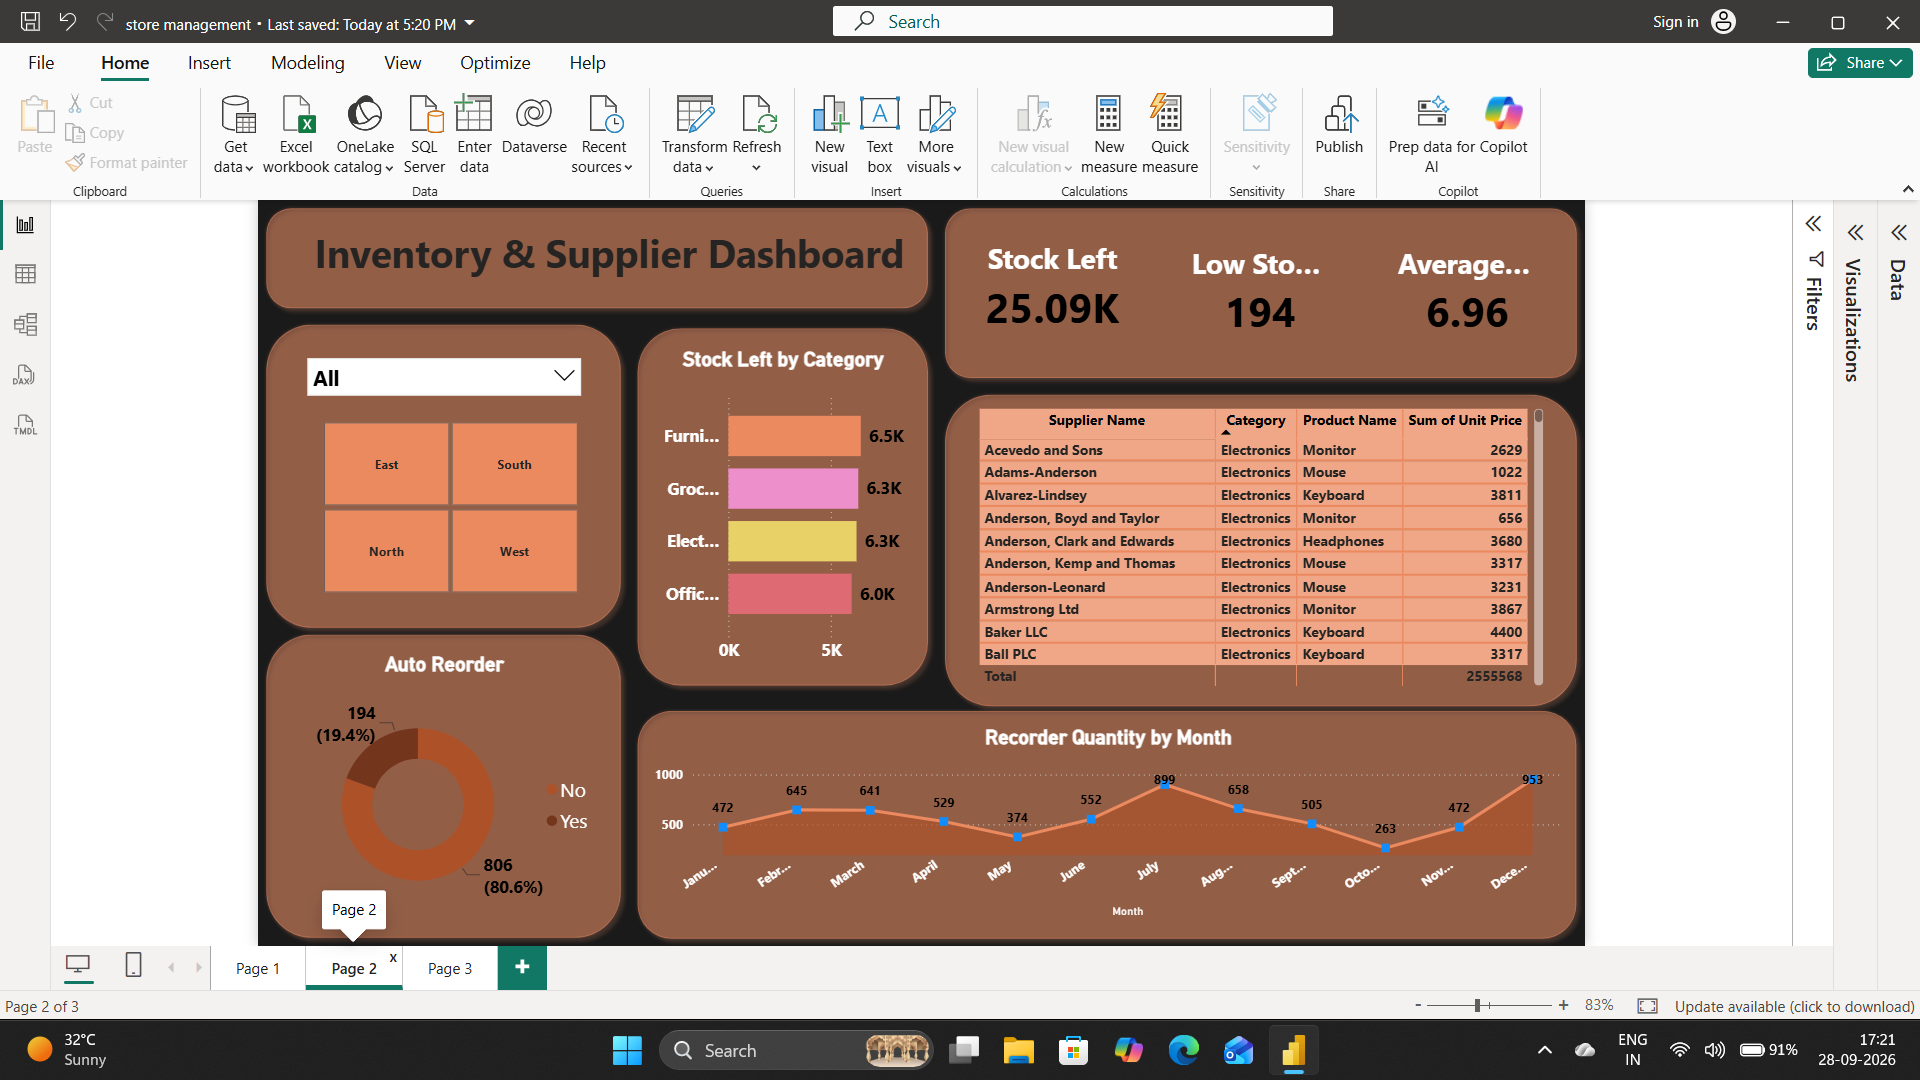

Layout of this report page (visuals, bound fields, positions):
{"tool":"powerbi","page":{"name":"Page 2","canvas":[1280,720],"ordinal":1},"visuals":[{"type":"shape","box":[0,0,654.5,112.5],"z":0},{"type":"shape","box":[0,112.5,358.1,308.7],"z":1000},{"type":"textbox","box":[49.4,20.6,590.1,72.7],"z":2000},{"type":"slicer","fields":{"Values":["store_management_system.Category"]},"box":[37,142.7,284,74.1],"z":3000},{"type":"slicer","fields":{"Values":["store_management_system.Region"]},"box":[37,207.2,295,178.4],"z":4000},{"type":"shape","box":[654.5,0,625.7,179.8],"z":5000},{"type":"cardVisual","fields":{"Data":["Sum(store_management_system.Stock Left)"]},"box":[671,20.6,192.1,126.2],"z":6000},{"type":"cardVisual","fields":{"Data":["CountNonNull(store_management_system.Stock Left)"]},"box":[872.7,20.6,190.7,135.8],"z":7000},{"type":"cardVisual","fields":{"Data":["Avg(store_management_system.Reorder Quantity)"]},"box":[1071.7,20.6,192.1,135.8],"z":8000},{"type":"shape","box":[0,411.7,358.1,308.7],"z":9000},{"type":"shape","box":[654.5,179.8,625.7,317],"z":10000},{"type":"shape","box":[358.1,484.4,922.1,236],"z":11000},{"type":"shape","box":[358.1,115.3,296.4,360.9],"z":12000},{"type":"donutChart","title":"Auto Reorder","fields":{"Category":["store_management_system.Auto Reorder"],"Y":["CountNonNull(store_management_system.Auto Reorder)"]},"box":[27.4,436.4,304.6,260.7],"z":13000},{"type":"lineChart","fields":{"Category":["store_management_system.Ship Date.Variation.Date Hierarchy.Month"],"Y":["Sum(store_management_system.Reorder Quantity)"]},"box":[377.4,507.7,886.5,189.4],"z":14000},{"type":"barChart","fields":{"Category":["store_management_system.Category"],"Y":["Sum(store_management_system.Stock Left)"]},"box":[374.6,142.7,263.5,314.2],"z":15000},{"type":"tableEx","fields":{"Values":["store_management_system.Supplier Name","store_management_system.Category","store_management_system.Product Name","Sum(store_management_system.Unit Price)"]},"box":[690.2,196.2,555.7,277.2],"z":16000}]}

Visuals, with their boxes on the page's 1280x720 design canvas (x1, y1, x2, y2). These are canvas units, not pixel positions in the 1920x1080 screenshot, which may show the page scaled, cropped or inside an application window:
shape: x1=0 y1=0 x2=654 y2=112
shape: x1=0 y1=112 x2=358 y2=421
textbox: x1=49 y1=21 x2=640 y2=93
slicer - store_management_system.Category: x1=37 y1=143 x2=321 y2=217
slicer - store_management_system.Region: x1=37 y1=207 x2=332 y2=386
shape: x1=654 y1=0 x2=1280 y2=180
cardVisual - Sum(store_management_system.Stock Left): x1=671 y1=21 x2=863 y2=147
cardVisual - CountNonNull(store_management_system.Stock Left): x1=873 y1=21 x2=1063 y2=156
cardVisual - Avg(store_management_system.Reorder Quantity): x1=1072 y1=21 x2=1264 y2=156
shape: x1=0 y1=412 x2=358 y2=720
shape: x1=654 y1=180 x2=1280 y2=497
shape: x1=358 y1=484 x2=1280 y2=720
shape: x1=358 y1=115 x2=654 y2=476
"Auto Reorder" donutChart: x1=27 y1=436 x2=332 y2=697
lineChart - store_management_system.Ship Date.Variation.Date Hierarchy.Month x Sum(store_management_system.Reorder Quantity): x1=377 y1=508 x2=1264 y2=697
barChart - store_management_system.Category x Sum(store_management_system.Stock Left): x1=375 y1=143 x2=638 y2=457
tableEx - store_management_system.Supplier Name x store_management_system.Category: x1=690 y1=196 x2=1246 y2=473
